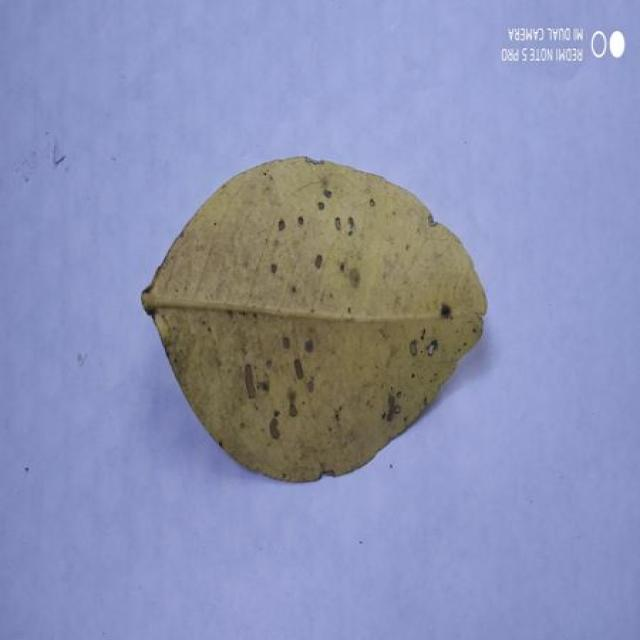Citrus bacterial spot: (142, 158, 487, 482)
